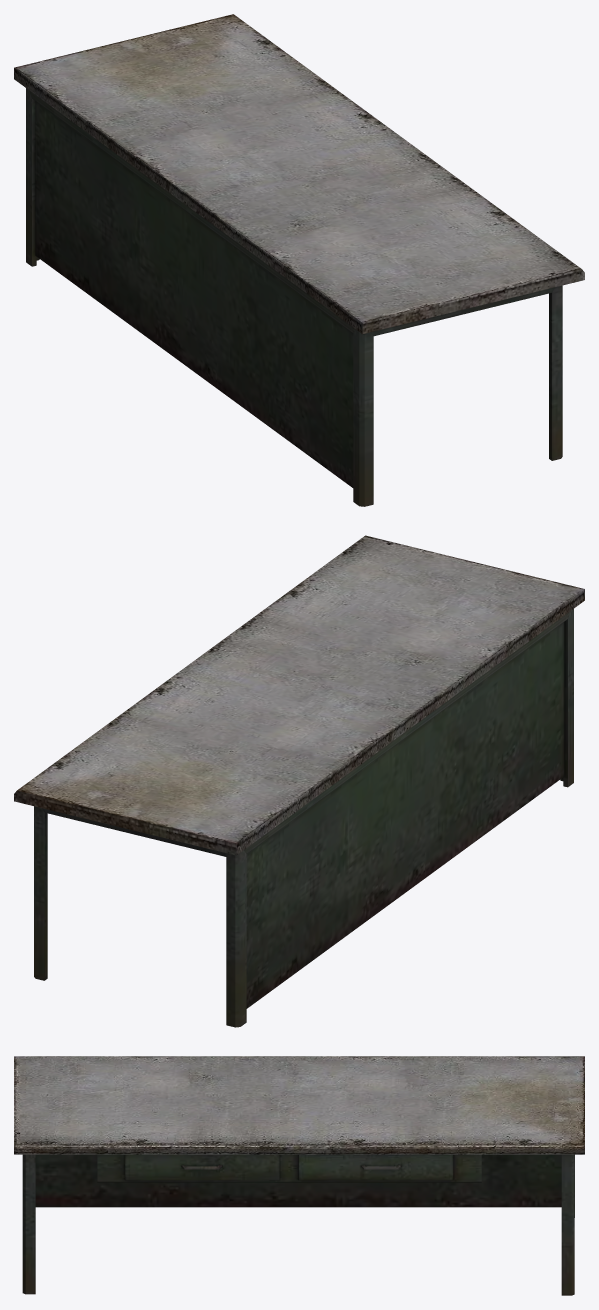
File: controlroom_desk001b.glb
The picture shows the model from 3 angles, top to bottom: view 1: azimuth 30°, elevation 25°; view 2: azimuth 150°, elevation 25°; view 3: azimuth 270°, elevation 25°; orthographic projection. The views are drawn at different scales.
Visible parts, largest first — view 1: 0_controlroom_tables001; view 2: 0_controlroom_tables001; view 3: 0_controlroom_tables001.
Boxes of the visible parts, x1,y1,x2,y2 form: 0_controlroom_tables001: (14, 14, 584, 506); 0_controlroom_tables001: (14, 535, 584, 1027); 0_controlroom_tables001: (14, 1056, 584, 1295).
Bounding box in the file's own units: 1.04 × 0.848 × 2.82.
Materials: 1 (1 with a texture image).
